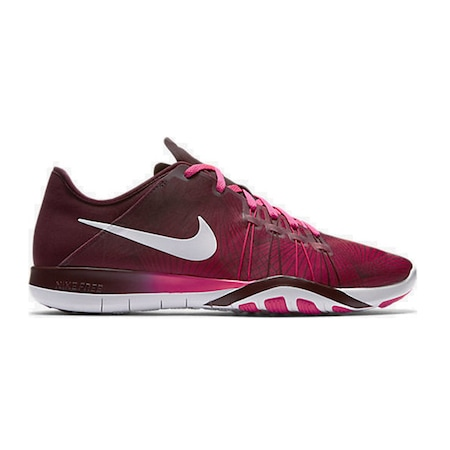nike: (80, 212, 222, 267)
